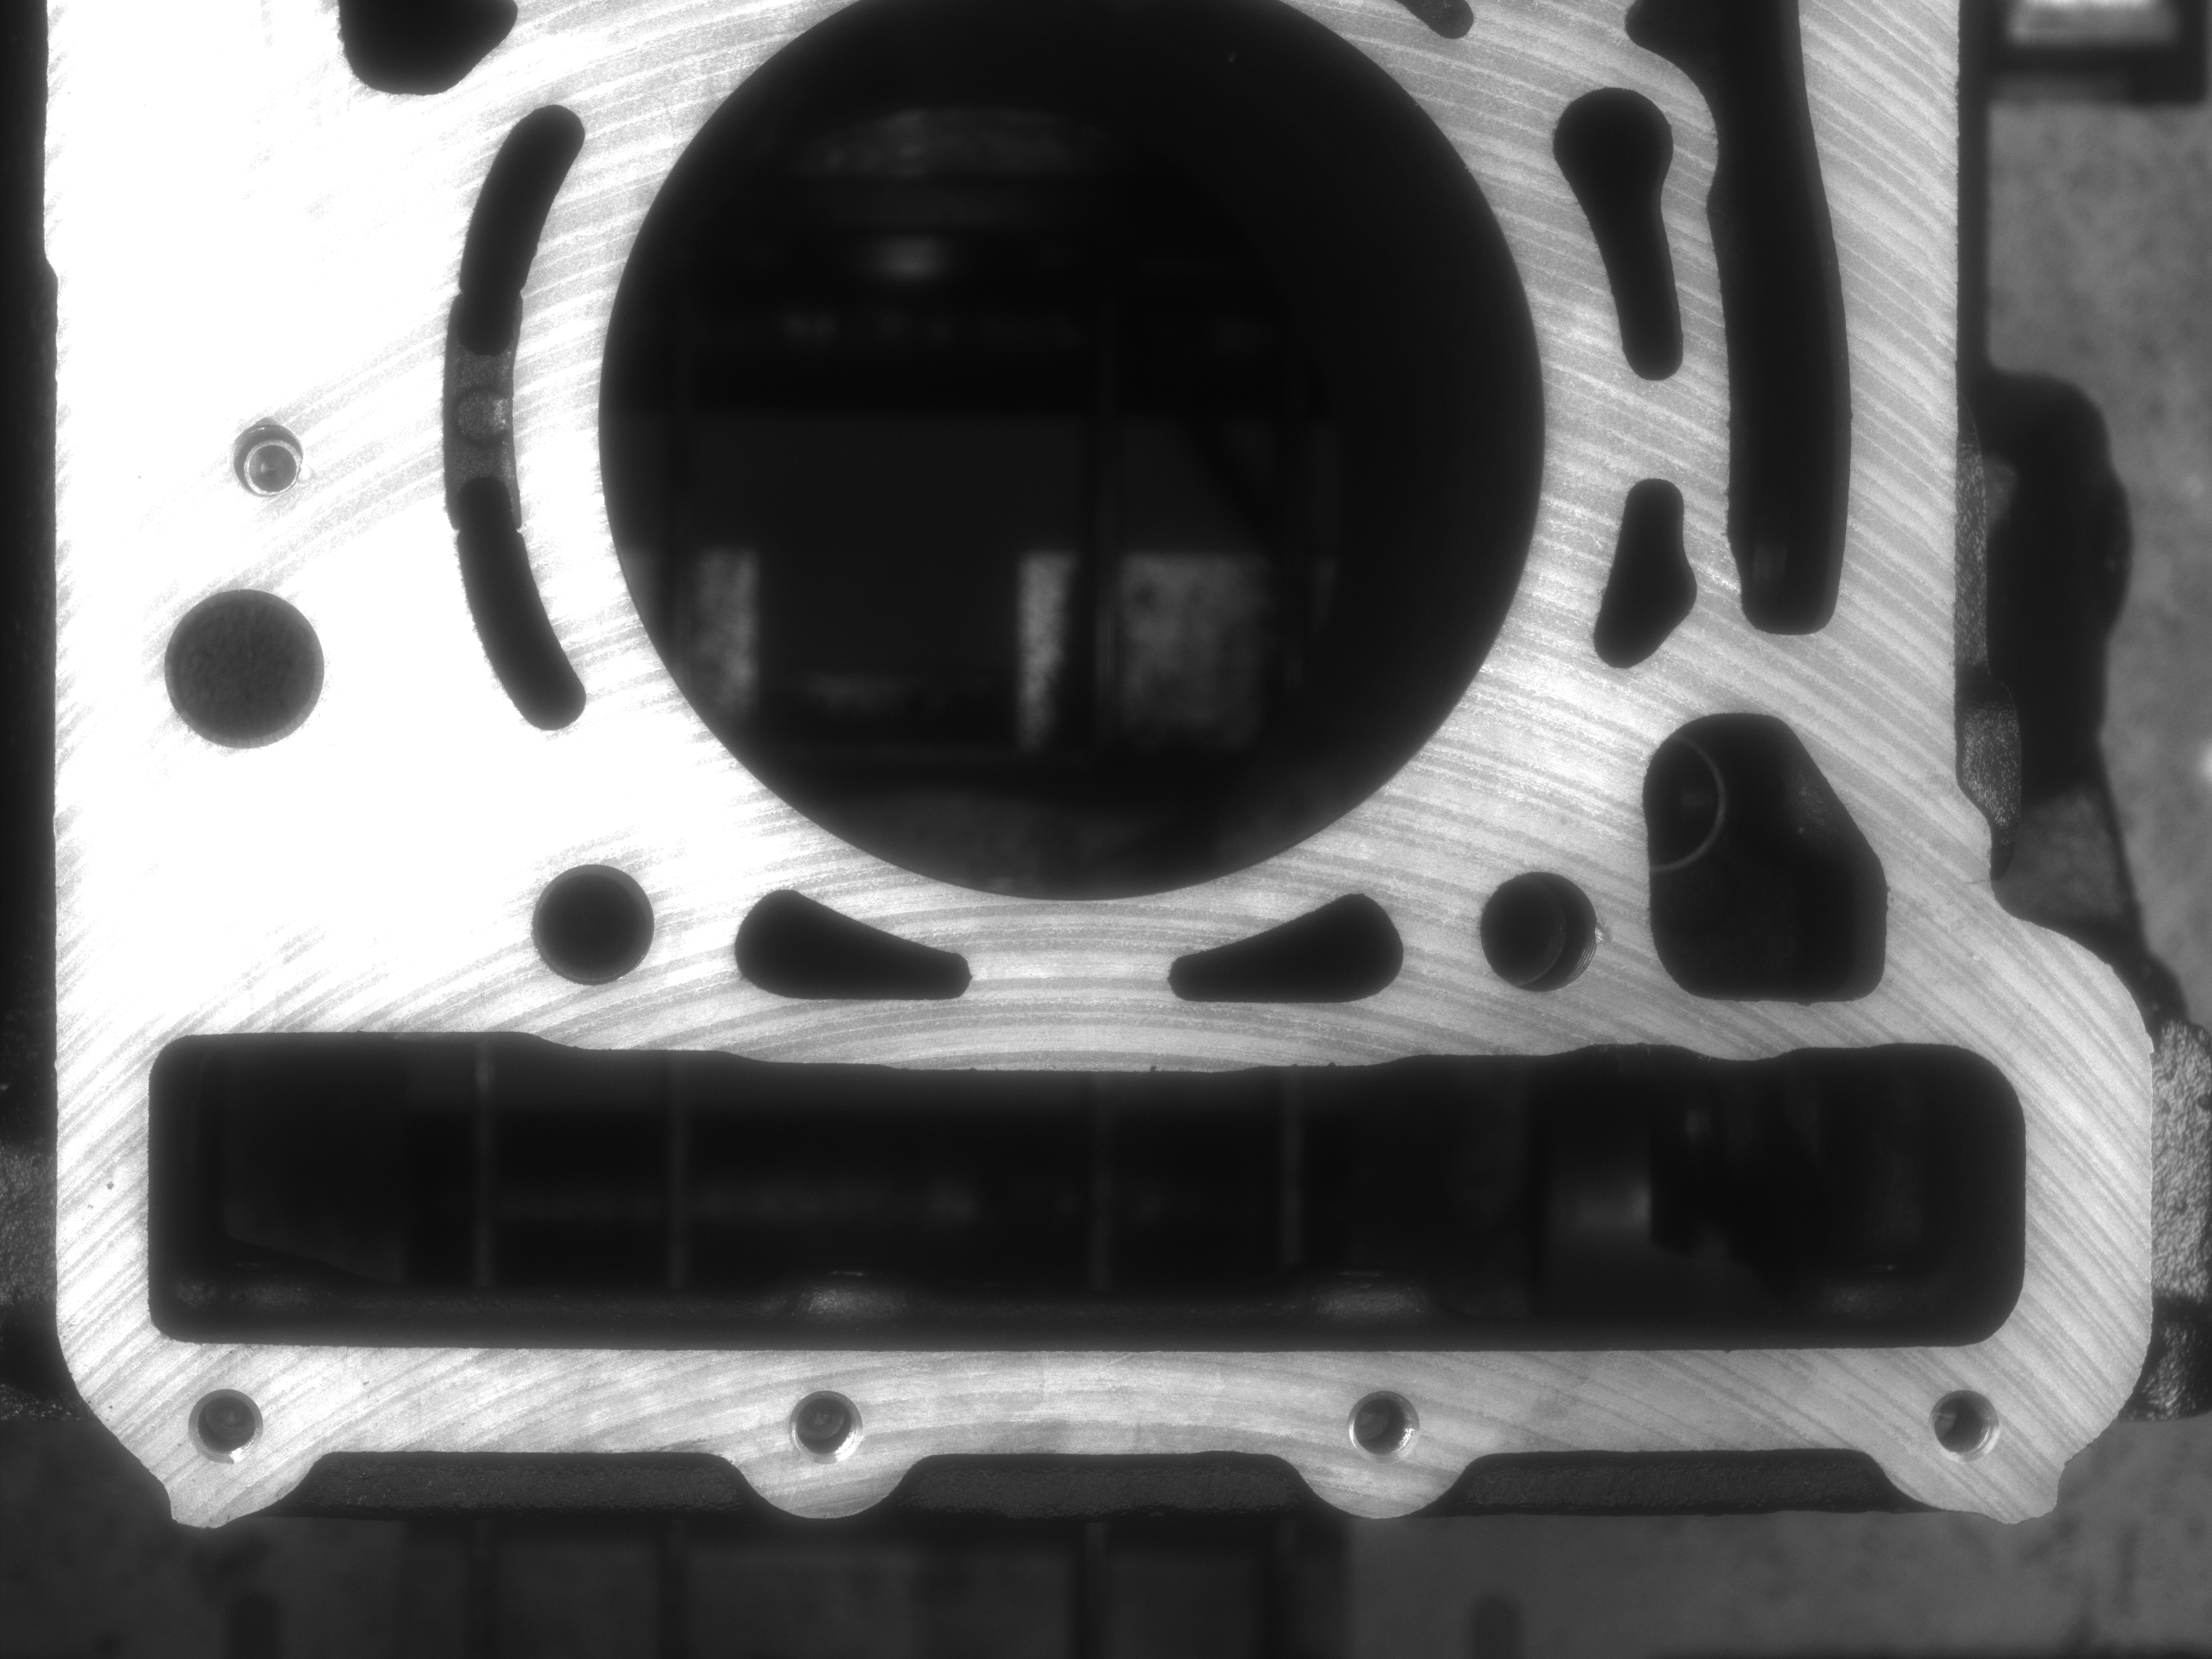shrinkage: (284, 457, 317, 491), (1594, 915, 1616, 953)
